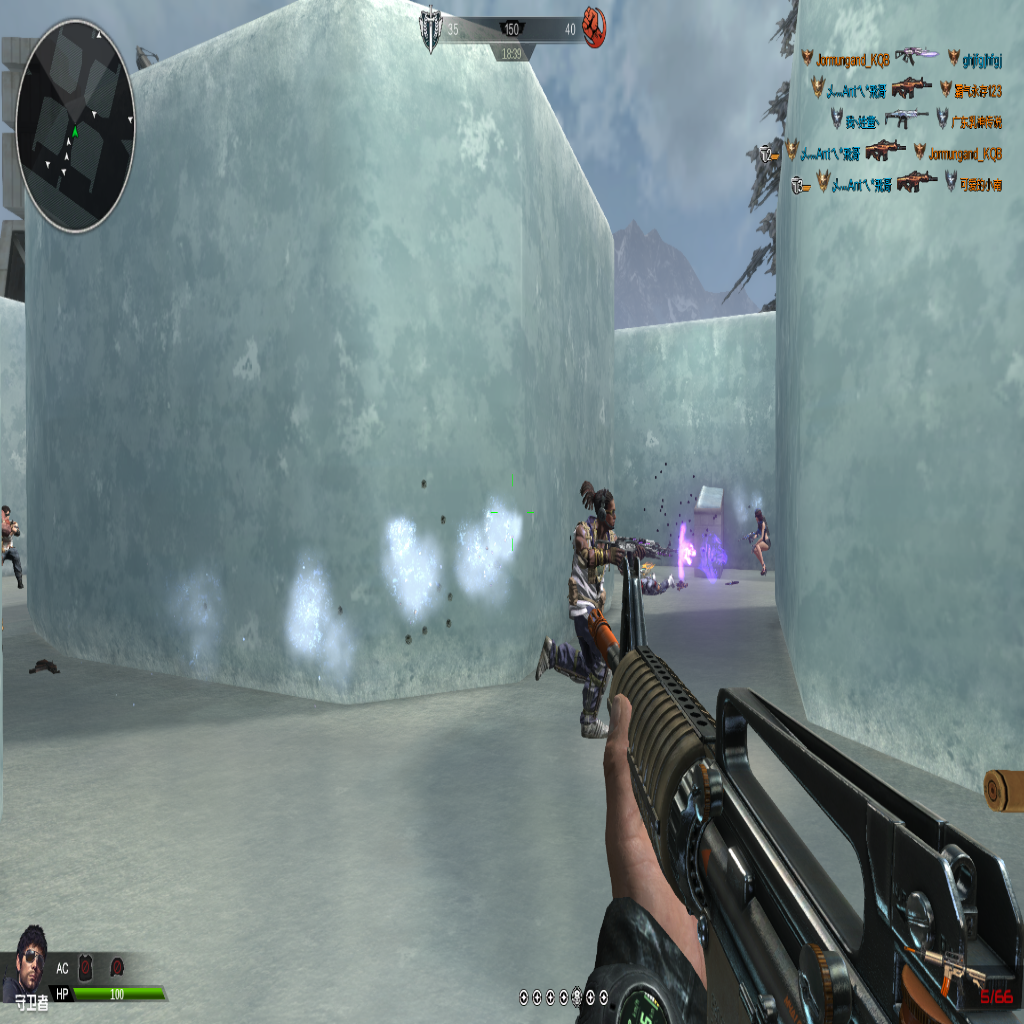tt: (535, 497, 637, 729), (0, 506, 25, 594)
